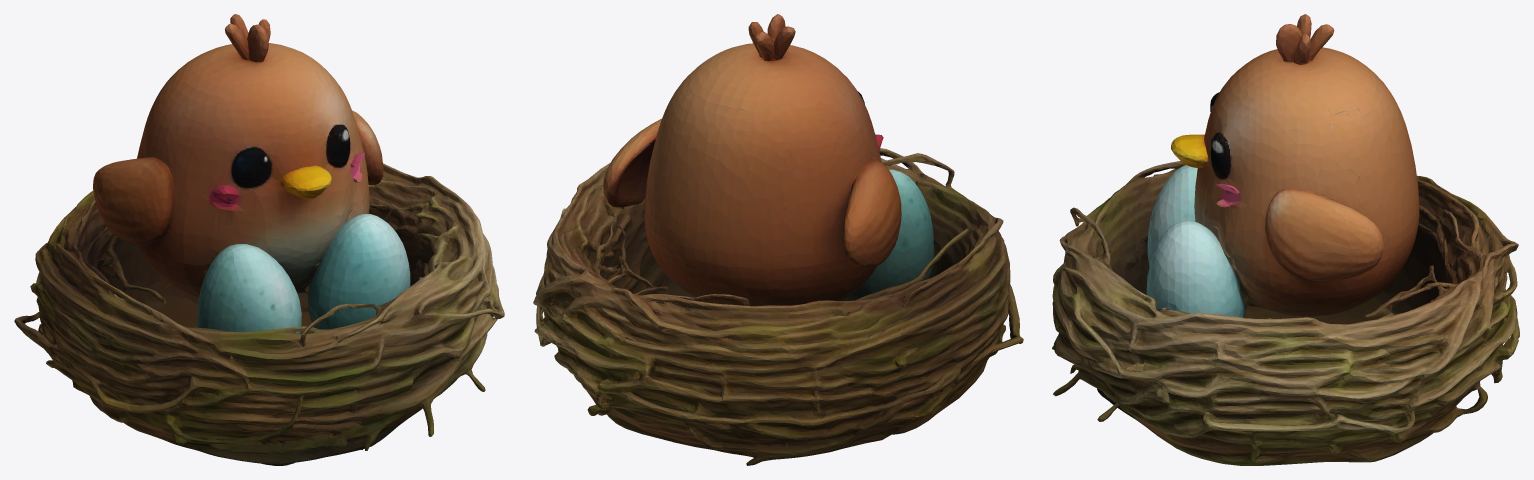
Rendered from nest.glb.
3 views of the same model, side by side, from view 1: azimuth 30°, elevation 25°; view 2: azimuth 150°, elevation 25°; view 3: azimuth 270°, elevation 25° (orthographic). The views are drawn at different scales.
Visible parts, largest first — view 1: geometry_0; view 2: geometry_0; view 3: geometry_0.
Part boxes in pixels (x1,y1,x2,y2): geometry_0: [14, 14, 504, 465]; geometry_0: [533, 14, 1023, 465]; geometry_0: [1052, 14, 1519, 465].
Bounding box in the file's own units: 0.993 × 0.8877 × 0.9907.
1 material, 1 textured.
